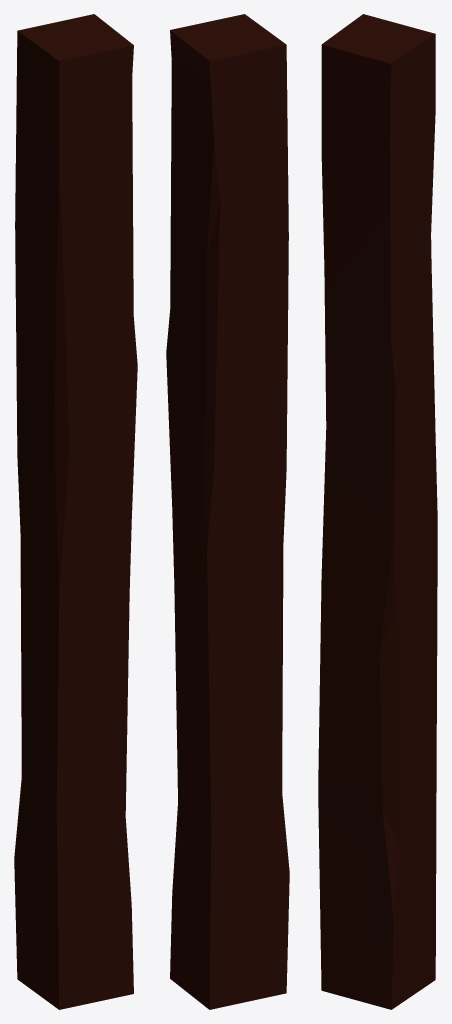
The model's file is Beam.FBX.
3 renders of one model, left to right at view 1: azimuth 30°, elevation 25°; view 2: azimuth 210°, elevation 25°; view 3: azimuth 330°, elevation 25°, orthographic.
Parts seen in each view (by area): view 1: Beam; view 2: Beam; view 3: Beam.
Boxes of the visible parts, x1,y1,x2,y2 form: Beam: (14,14,137,1009); Beam: (166,14,289,1009); Beam: (318,14,437,1009).
Size of the model in its own units: 22.2 by 21.58 by 250.
